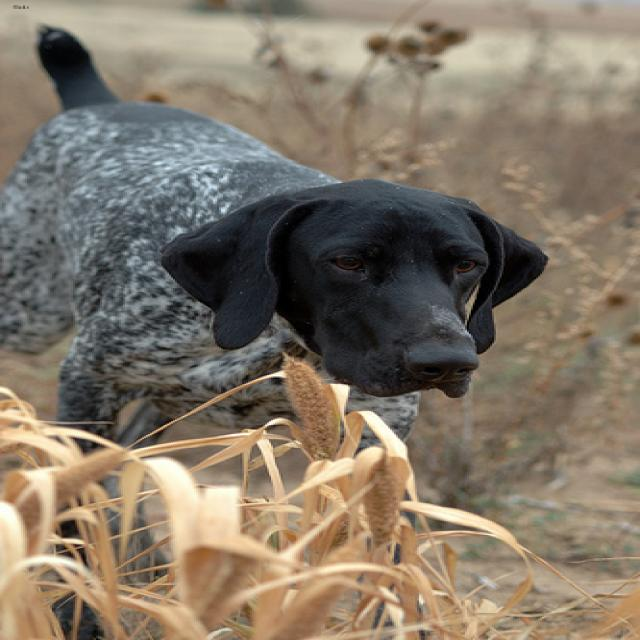dog-german_shorthaired: (2, 14, 561, 468)
